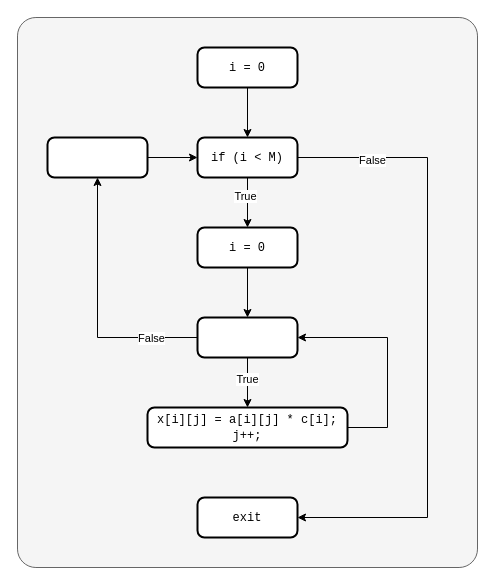
Image size: 495x585. Some labels were removed from this diagram. The box of each missing label's shape, as (x1, y1, x2, y2) in pixels:
i++: (46, 136, 148, 178)
if (j < N): (196, 316, 298, 358)
